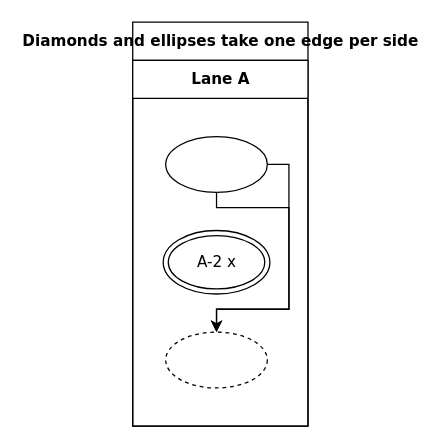
The diagram is 439 pixels wide and 448 high, and some of its shapes have lost their labels. Each missing label, with the centre of its shape:
"A-1 x" goes at (x=215, y=163).
"A-3 x" goes at (x=215, y=359).
